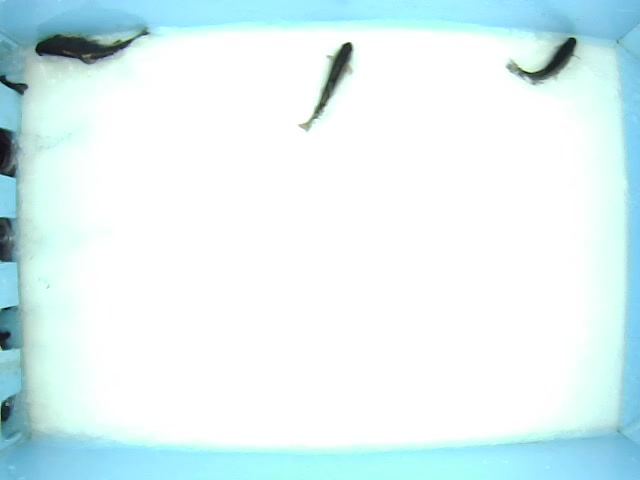fish: (296, 37, 354, 134), (35, 19, 151, 67), (504, 31, 581, 86)
